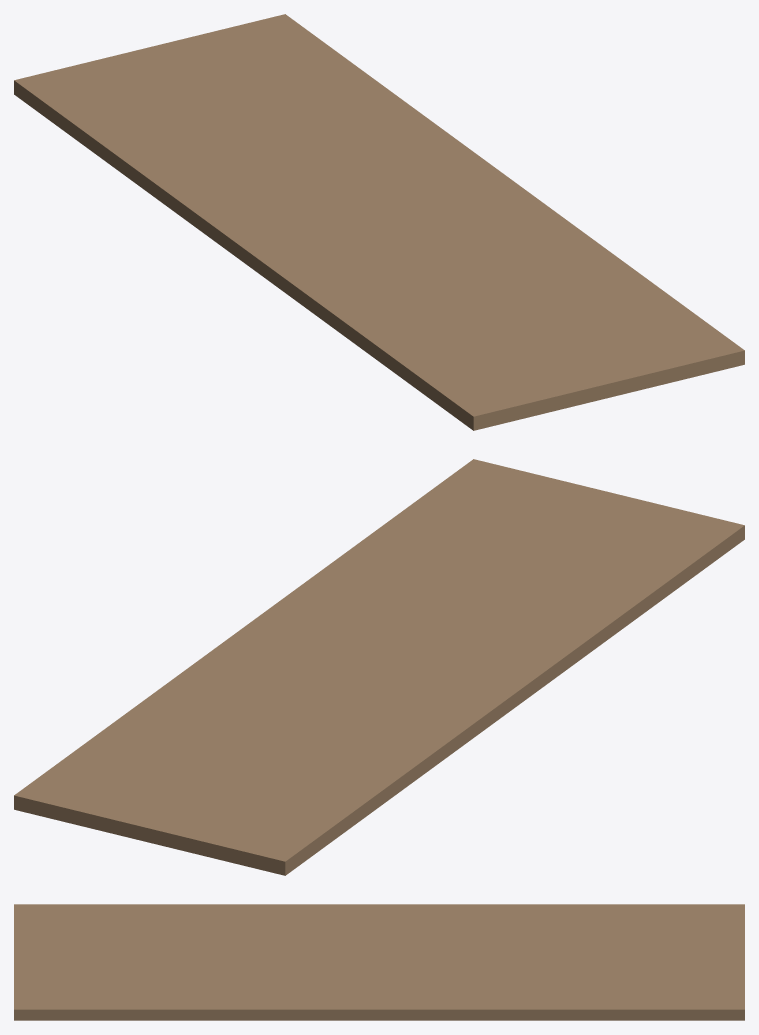
The model's file is floor9x3.fbx.
3 views of the same model, one above another, from view 1: azimuth 30°, elevation 25°; view 2: azimuth 150°, elevation 25°; view 3: azimuth 270°, elevation 25° (orthographic). The views are drawn at different scales.
Parts seen in each view (by area): view 1: floor; view 2: floor; view 3: floor.
Part boxes in pixels (left/top/right/bottom): floor: left=14, top=14, right=744, bottom=430; floor: left=14, top=459, right=744, bottom=875; floor: left=14, top=904, right=744, bottom=1020.
Size of the model in its own units: 6 by 0.3 by 17.6.
